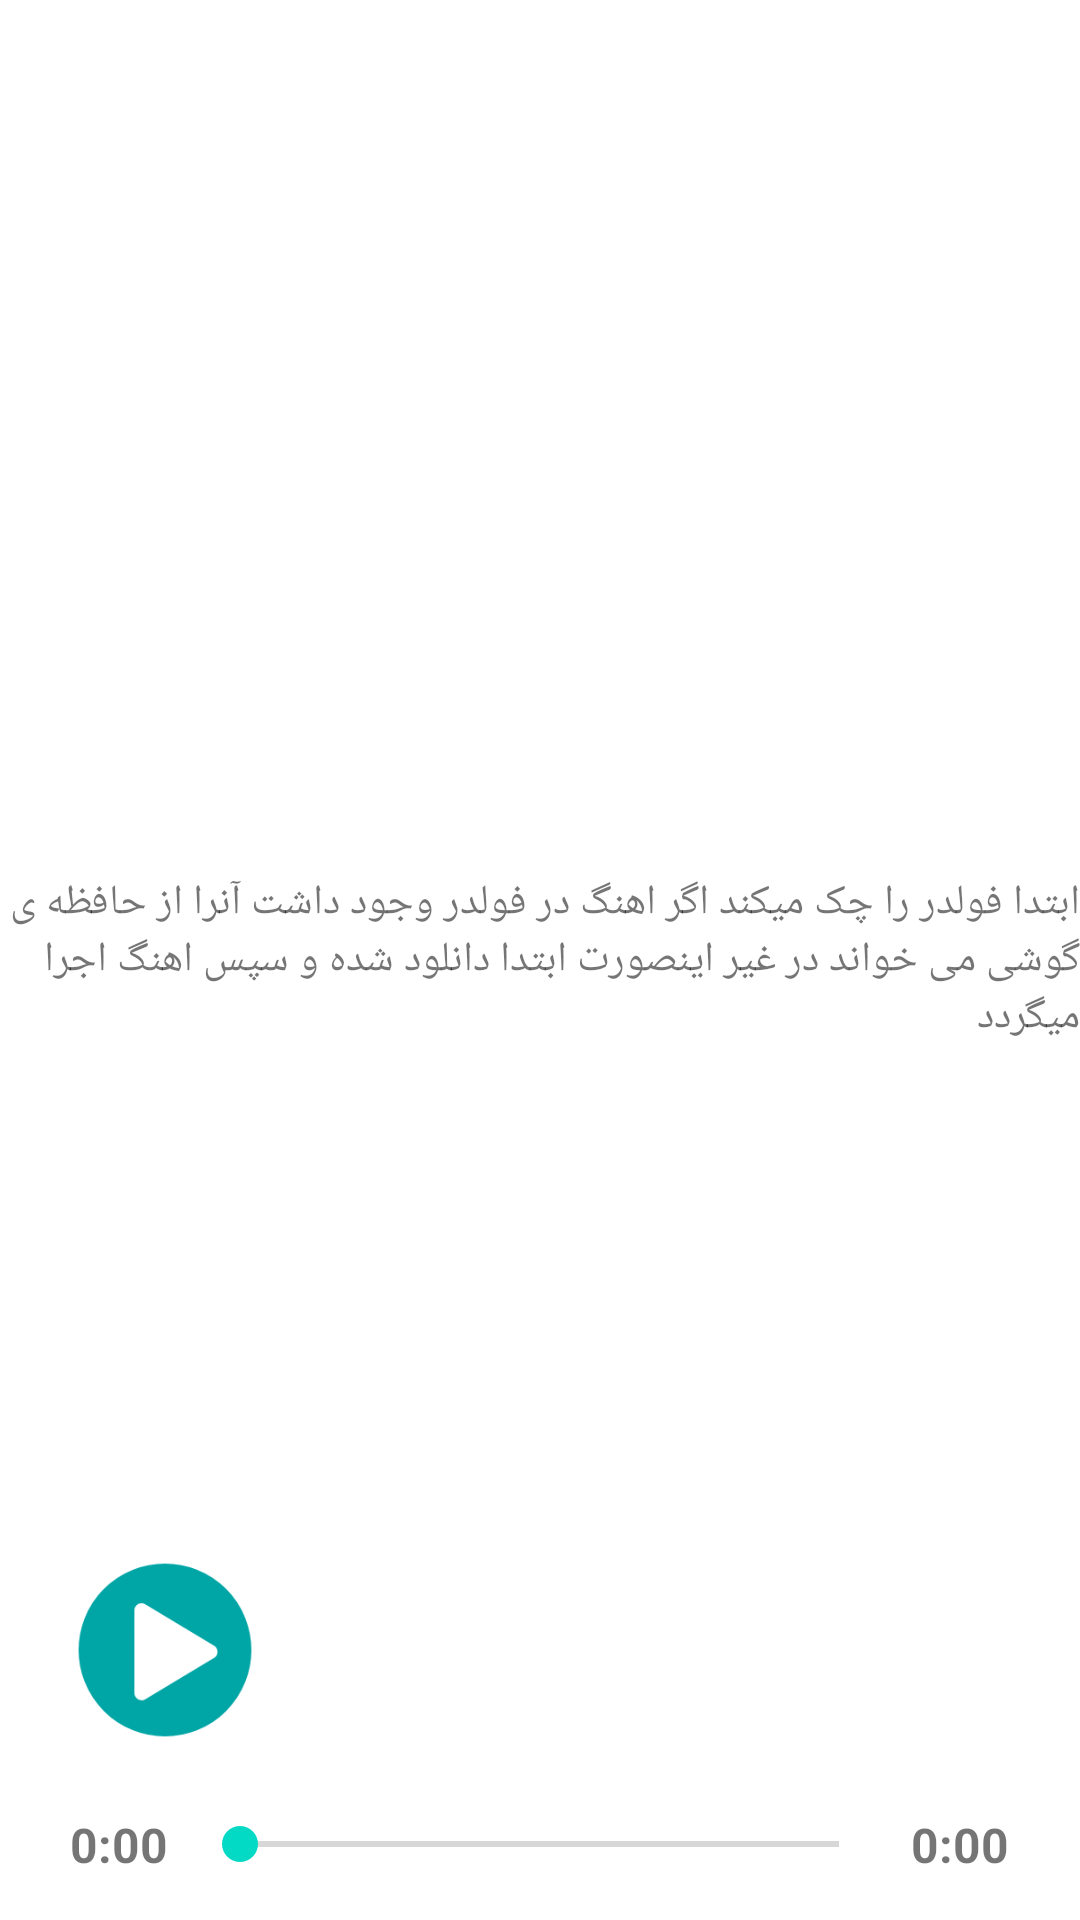

Icon click points for this 1080*1920 phone screenshot, format (x=x, y=y):
play adieh: (x=165, y=1650)
